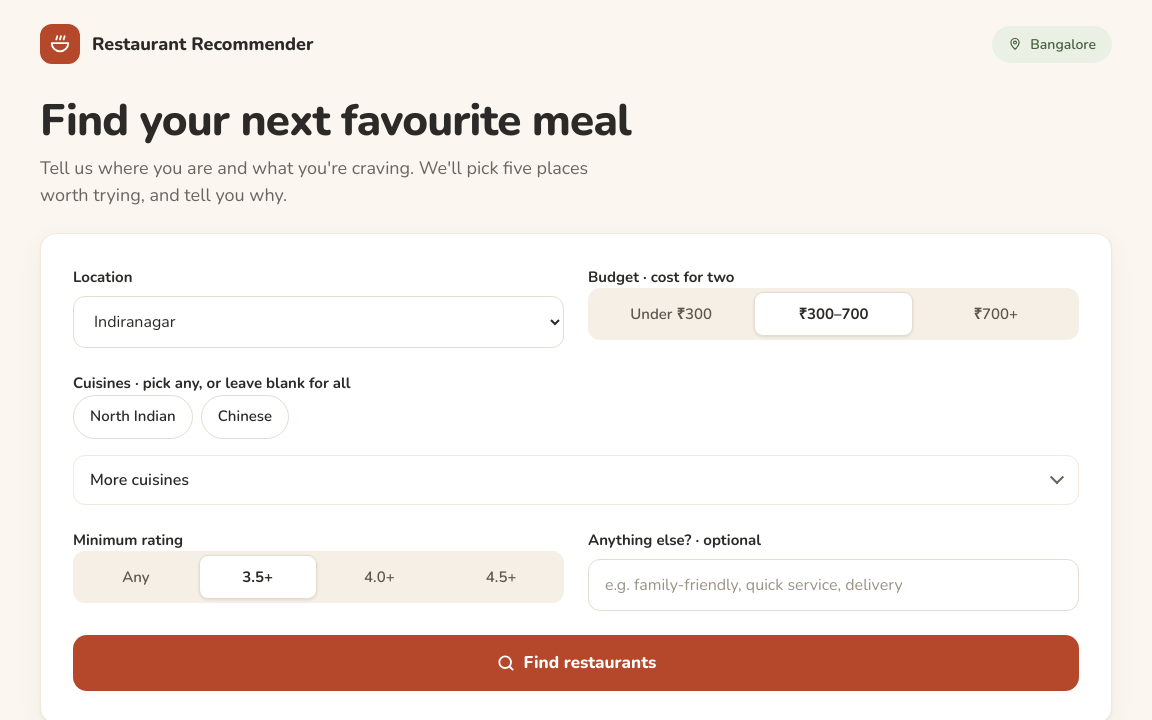
Recommender › shows a null rating and cost as text
Click the button "Find restaurants".
click(576, 663)  # box x1=73 y1=635 x2=1079 y2=691
(page scrolled)
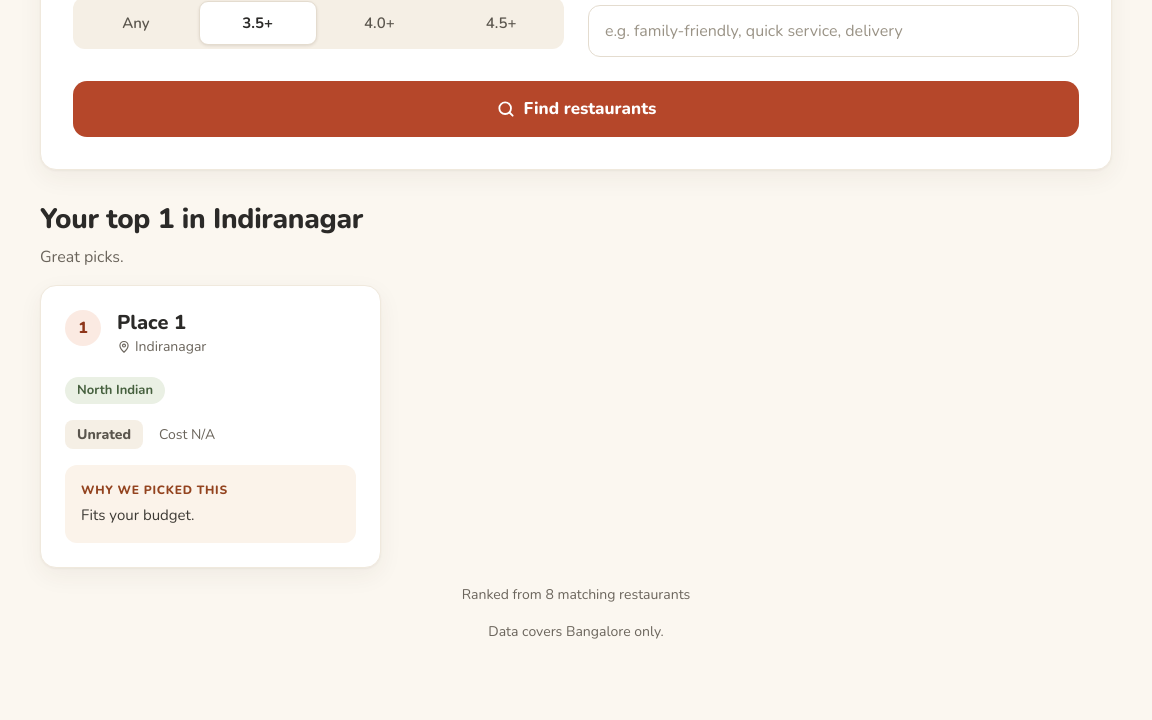
Expected: the text "Unrated" is shown, x1=65 y1=420 x2=143 y2=449
Expected: the text "Cost N/A" is shown, x1=159 y1=424 x2=215 y2=445
